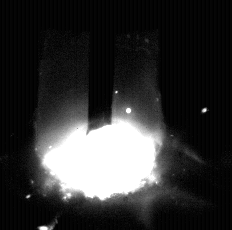arame: (89, 0, 113, 130)
poca: (38, 0, 162, 230)
